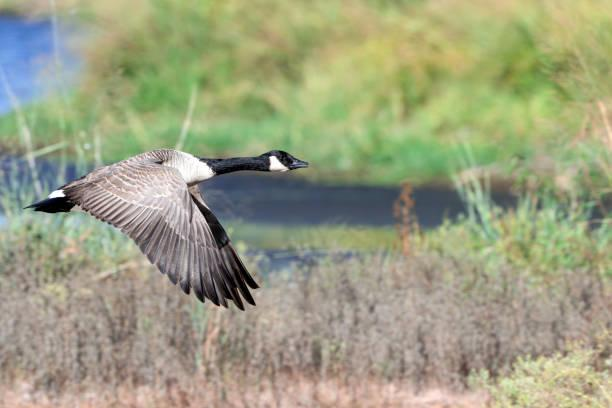Canadian-Goose: (27, 138, 315, 314)
